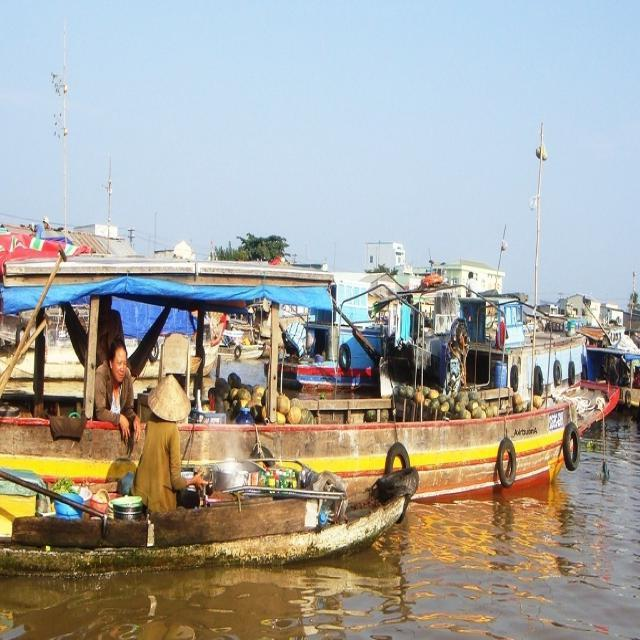boat: (0, 380, 605, 516), (0, 459, 435, 587)
